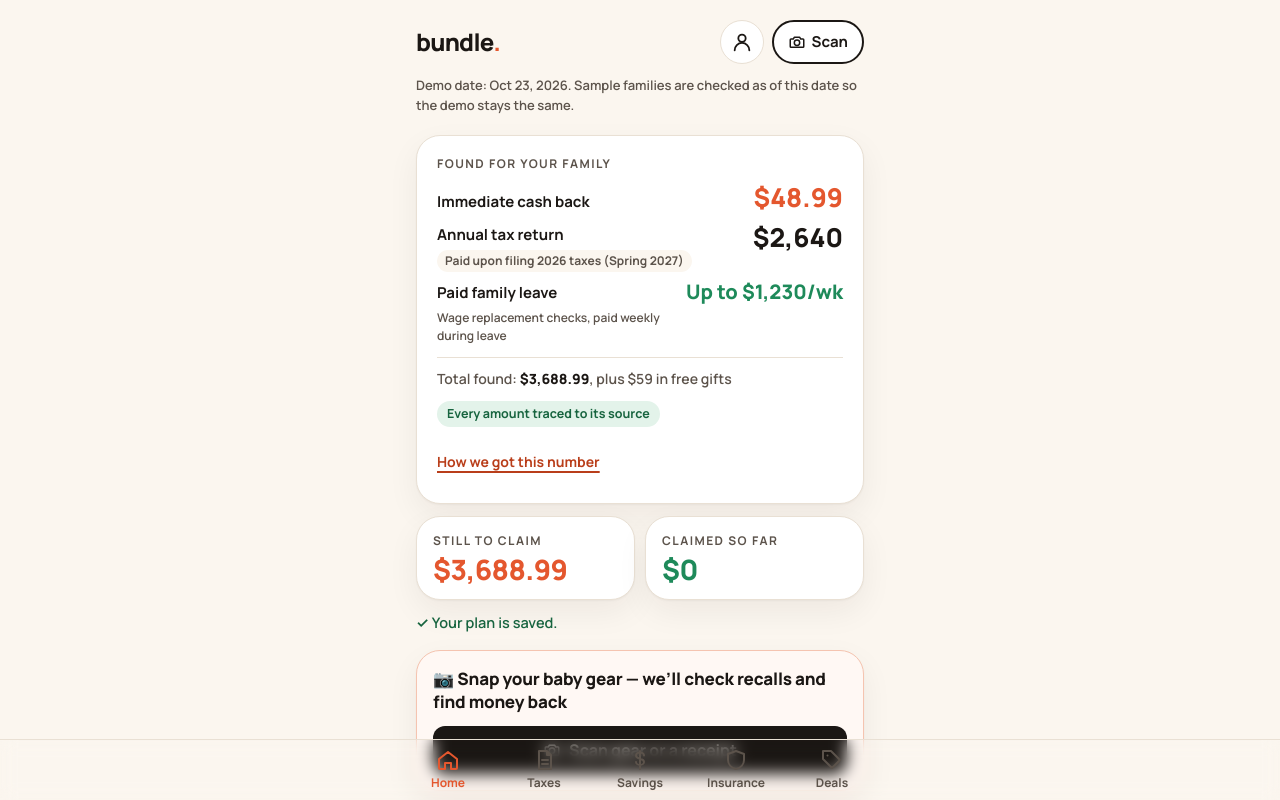
Test: Insurance tab follows the insurance answer › tricare: pill and deadline
The image size is (1280, 800).
Click the button "Insurance" at (736, 770), box top-left (688, 740), bottom-right (784, 799)
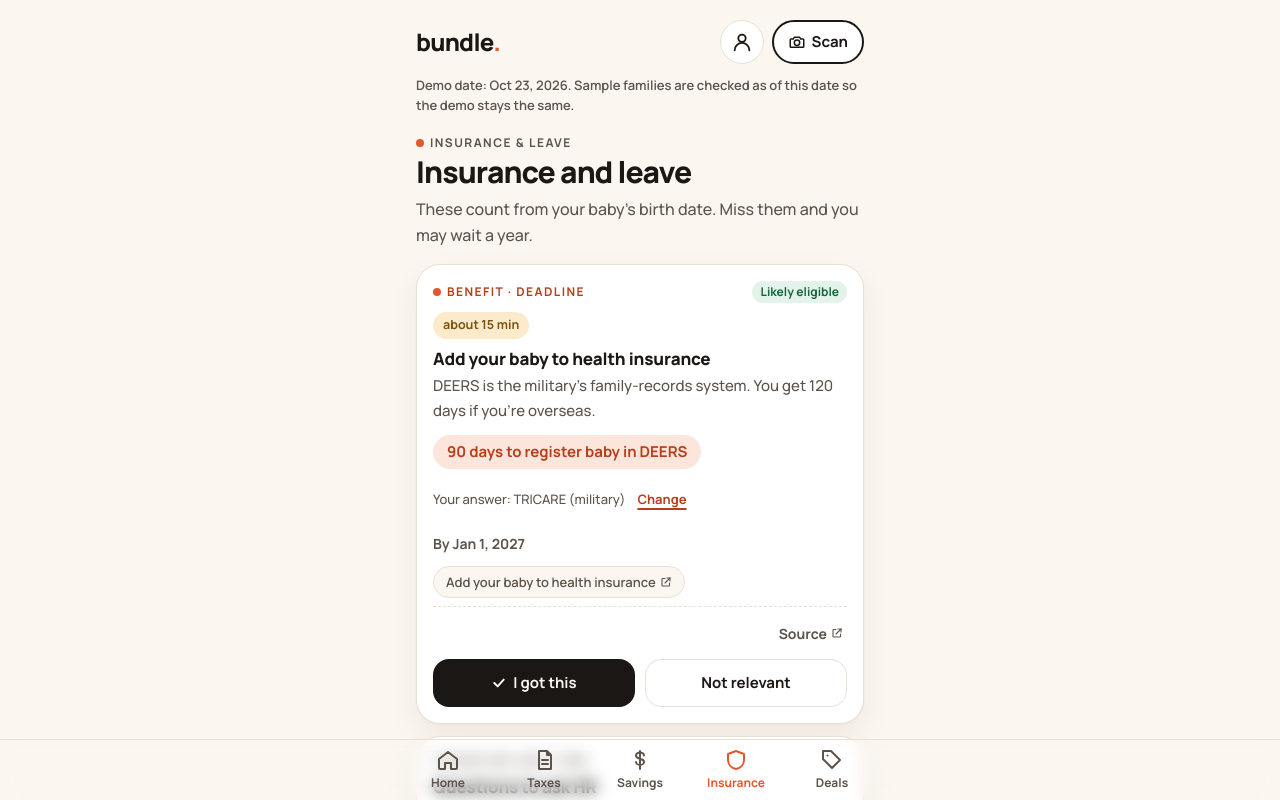
Expected: the text "By Jan 1, 2027" is shown, top-left (433, 533), bottom-right (525, 554)
Result: the text with test id "countdown-pill" reads "90 days to register baby in DEERS" at top-left (447, 441), bottom-right (687, 462)
Result: the element named "Add your baby to health insurance" shows "Your answer:" at top-left (433, 490), bottom-right (513, 508)
